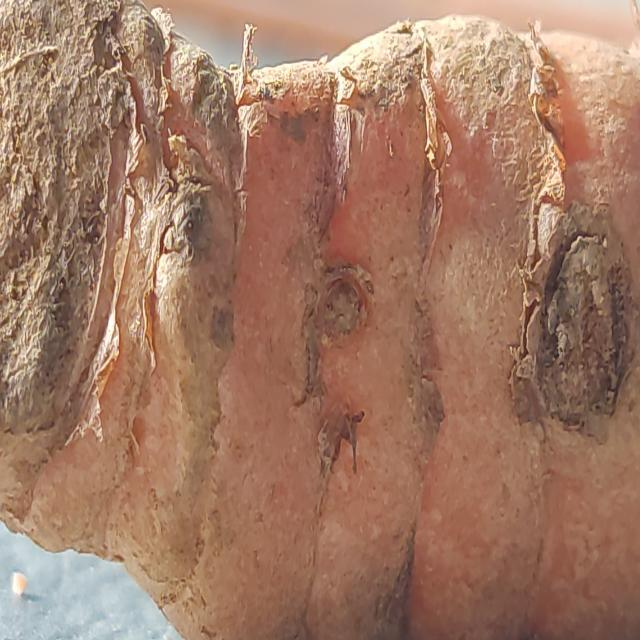ginger: (11, 19, 640, 582)
